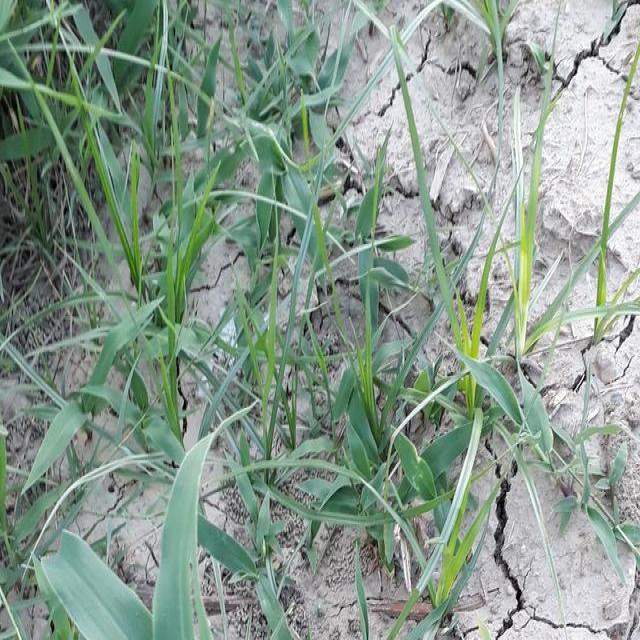weed: (121, 209, 535, 592), (0, 0, 341, 188)
